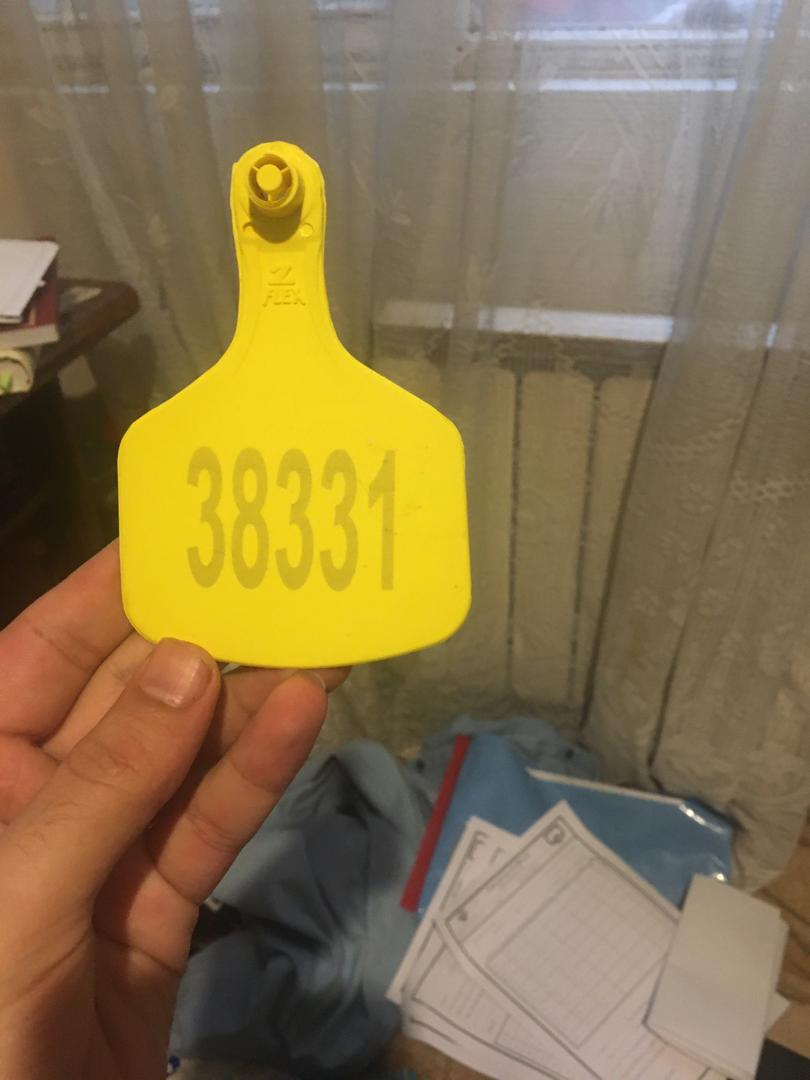digit: (180, 441, 404, 598)
